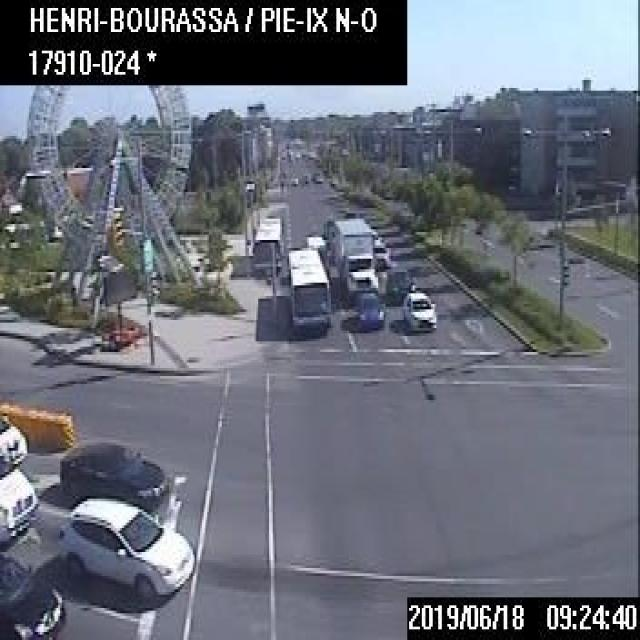bus: (286, 246, 330, 331), (251, 216, 280, 267)
construction: (101, 270, 137, 349)
vehicle: (56, 496, 195, 597), (60, 440, 166, 509), (0, 550, 64, 638), (332, 215, 377, 297), (0, 454, 38, 542), (380, 266, 415, 302), (402, 290, 435, 328), (0, 413, 25, 463), (352, 291, 383, 327), (305, 233, 325, 261), (372, 236, 389, 266), (288, 172, 297, 184), (301, 170, 308, 182), (313, 171, 321, 181)
